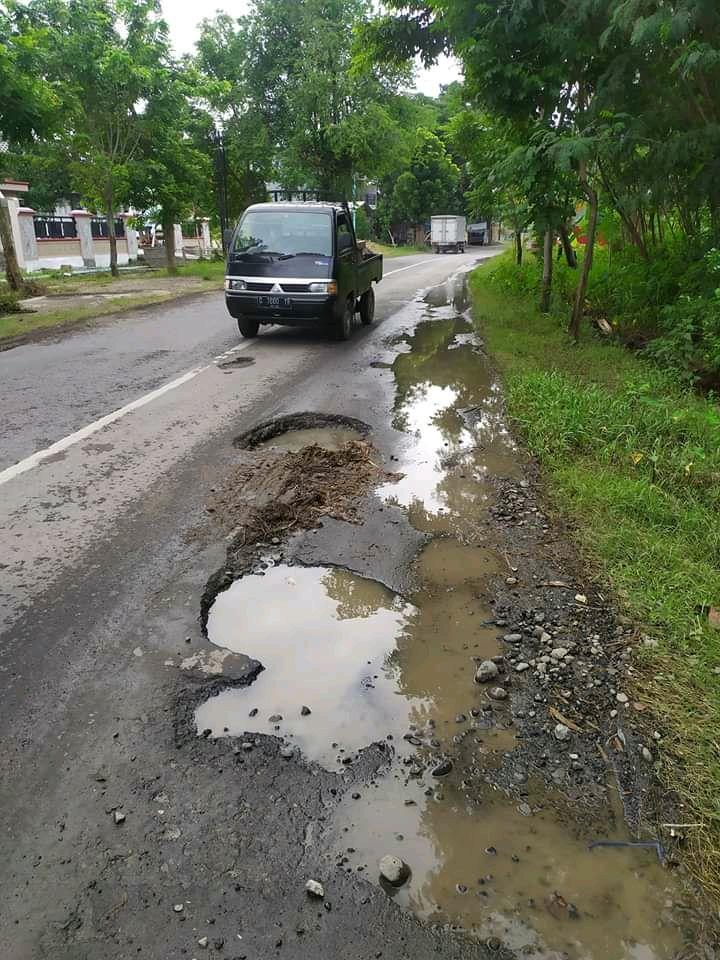Pothole: (196, 263, 699, 955)
